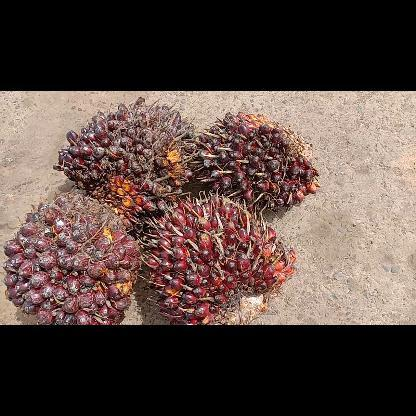Kurang masak: (140, 190, 298, 324), (50, 96, 198, 232)
TBS mentah: (0, 192, 144, 324), (194, 108, 324, 214)
